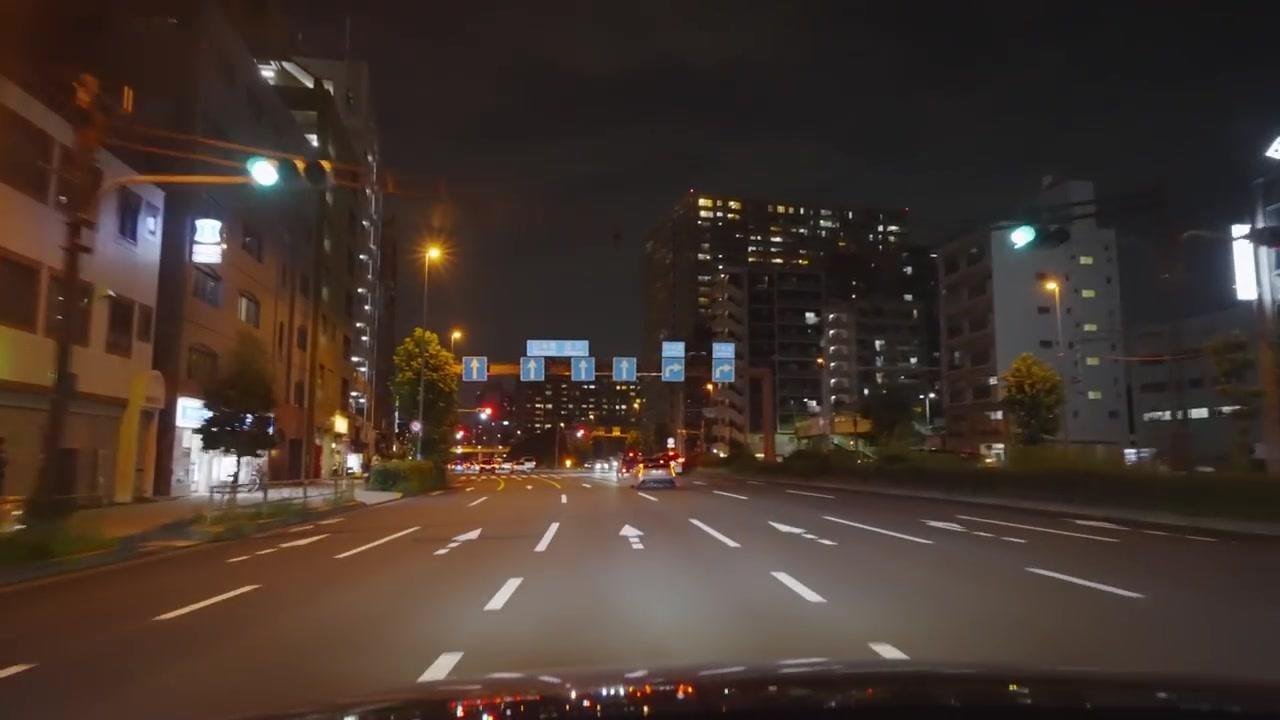car: (638, 467, 675, 486), (513, 460, 536, 473)
traffic light: (481, 407, 494, 419), (577, 425, 587, 438)
